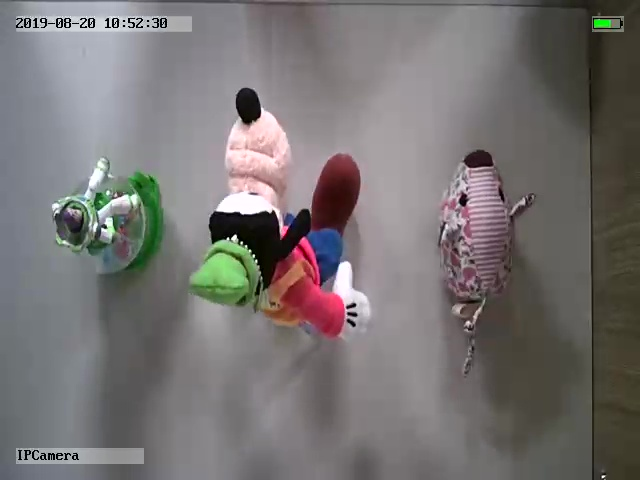buzz: (50, 155, 165, 280)
goofy: (189, 86, 372, 342)
pig: (437, 150, 536, 379)
